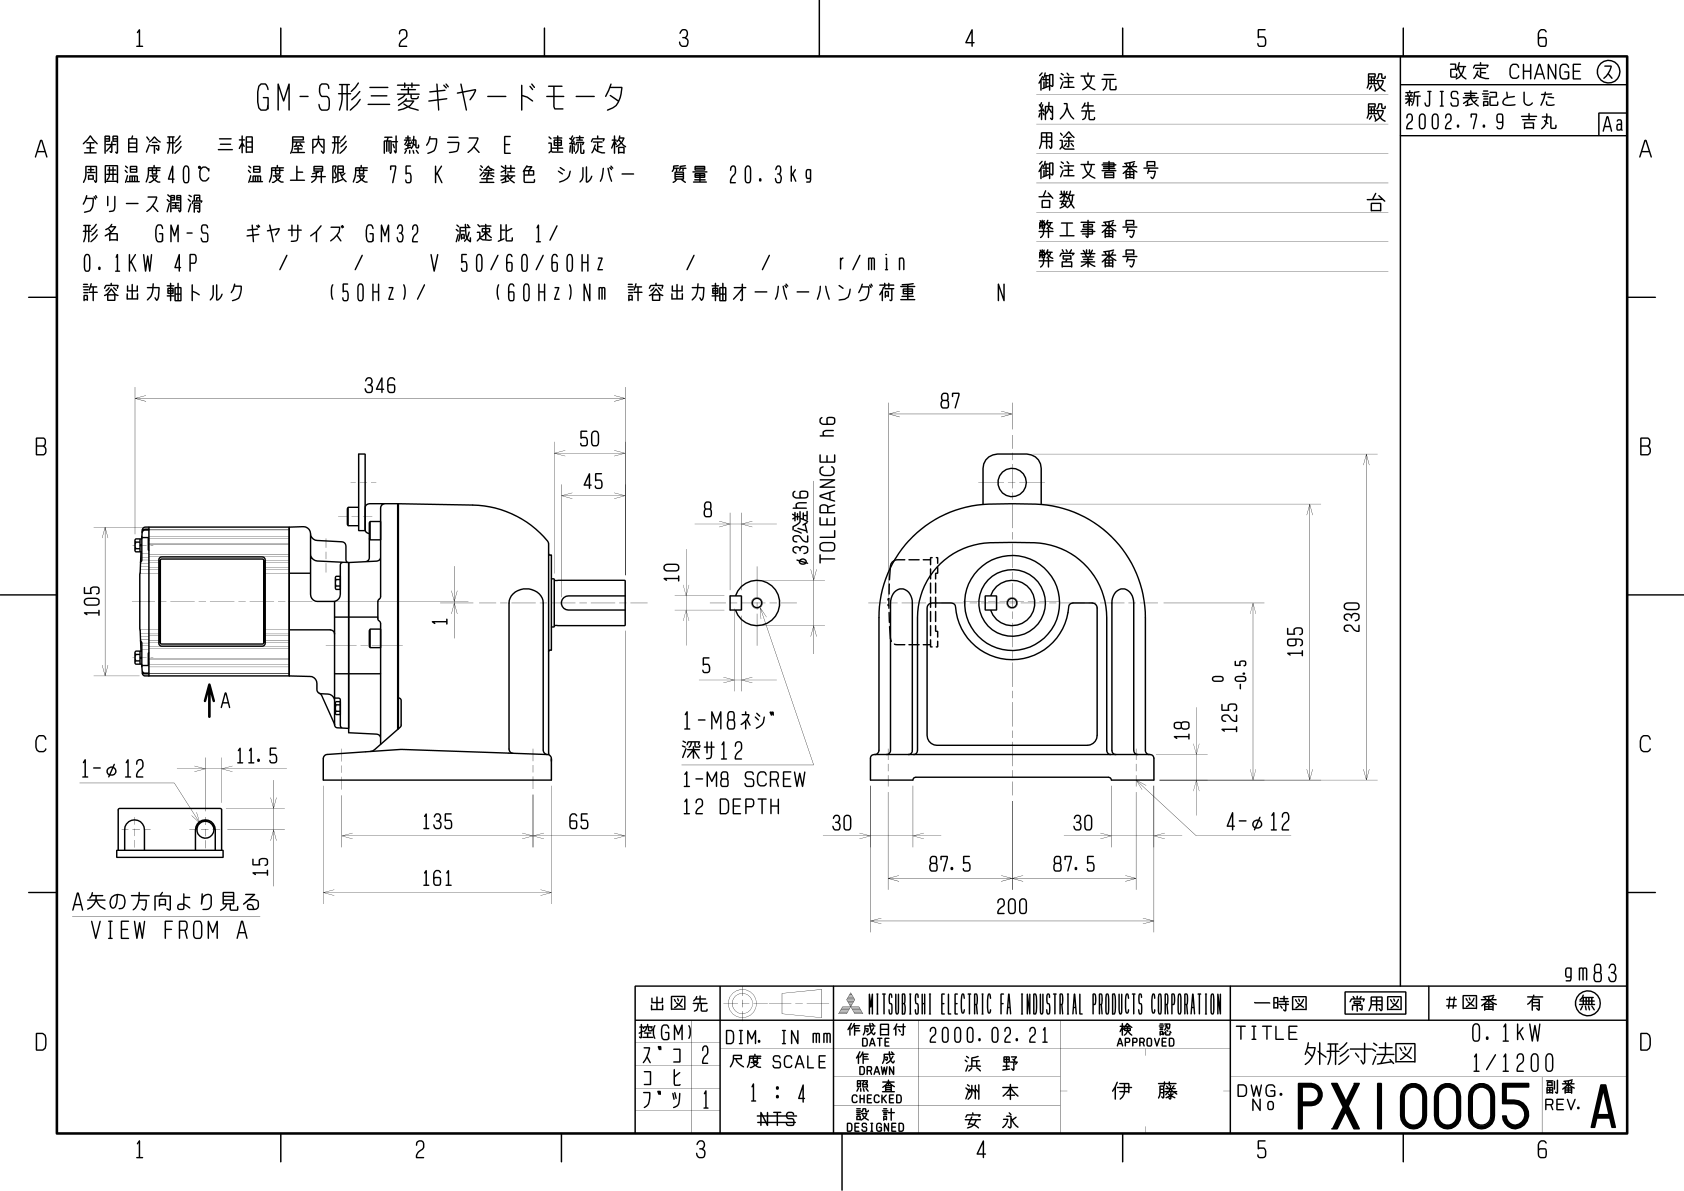GM_S_屋内＿三相_脚: (61, 360, 1389, 949)
